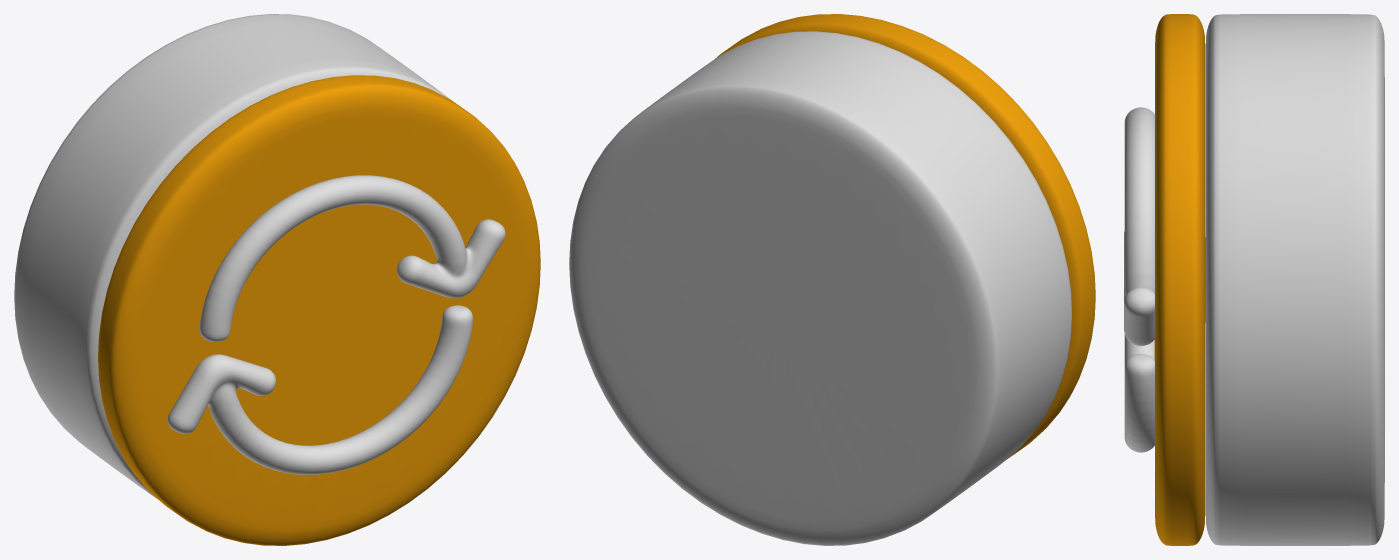
File: update-animated-3d-icon-1598394681215.glb
The picture shows the model from 3 angles, left to right: view 1: azimuth 30°, elevation 25°; view 2: azimuth 150°, elevation 25°; view 3: azimuth 270°, elevation 25°; orthographic projection. The views are drawn at different scales.
Parts seen in each view (by area): view 1: Base 1, Base 2, Cycle; view 2: Base 2, Base 1; view 3: Base 2, Base 1, Cycle.
Part boxes in pixels (<box>): Base 1: <box>98,75,540,545</box>; Base 2: <box>14,14,450,499</box>; Cycle: <box>167,175,505,474</box>; Base 2: <box>569,31,1071,545</box>; Base 1: <box>715,14,1095,457</box>; Base 2: <box>1205,14,1384,545</box>; Base 1: <box>1154,14,1205,545</box>; Cycle: <box>1124,107,1154,452</box>.
Size of the model in its own units: 1.95 by 1.95 by 0.9563.
